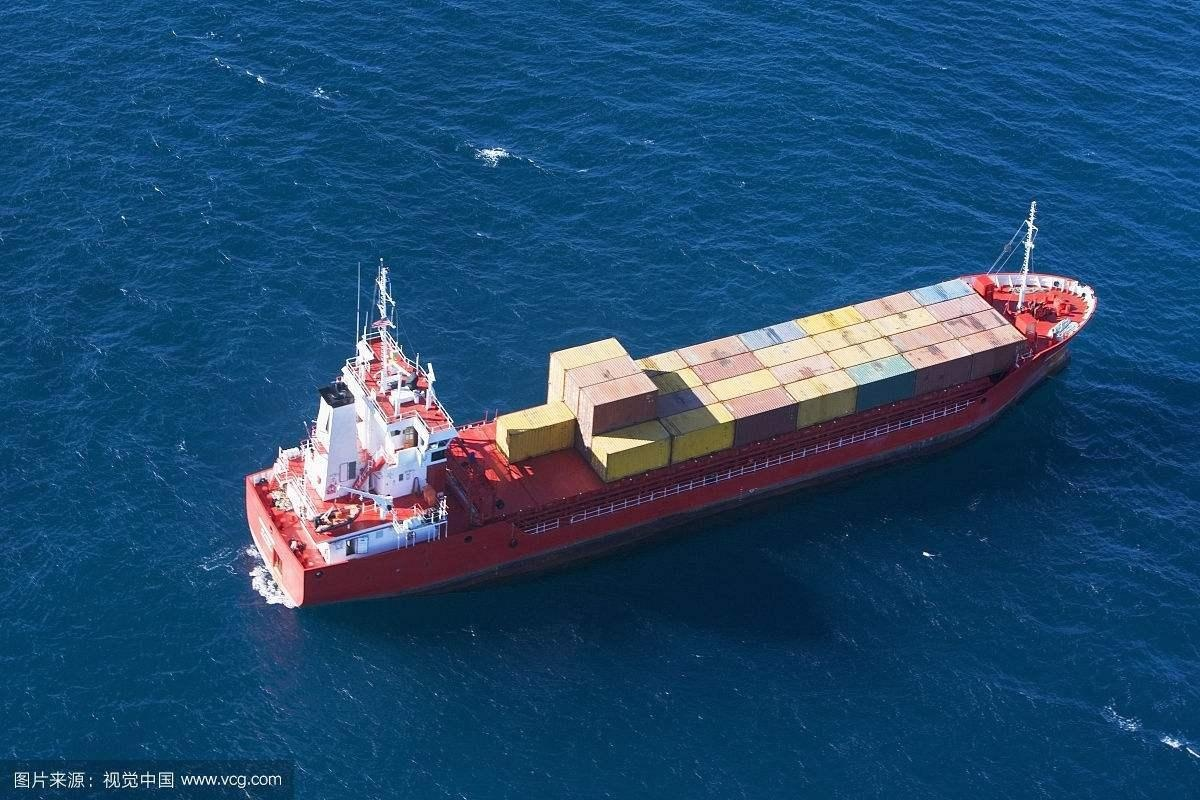Cargoship: (239, 196, 1099, 618)
